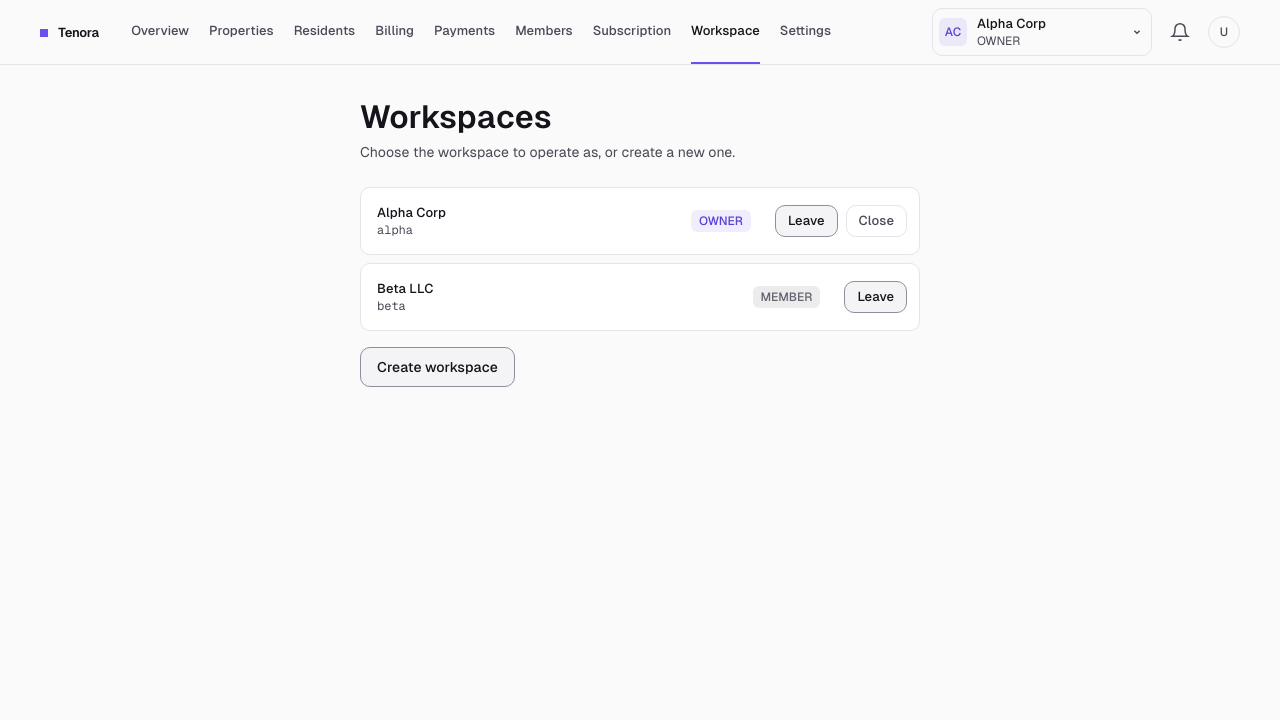
Test case: WorkspacePage › selecting a workspace switches tenant and enters the app
Click the button "Beta LLC beta MEMBER": (405, 288) [361,264,836,330]
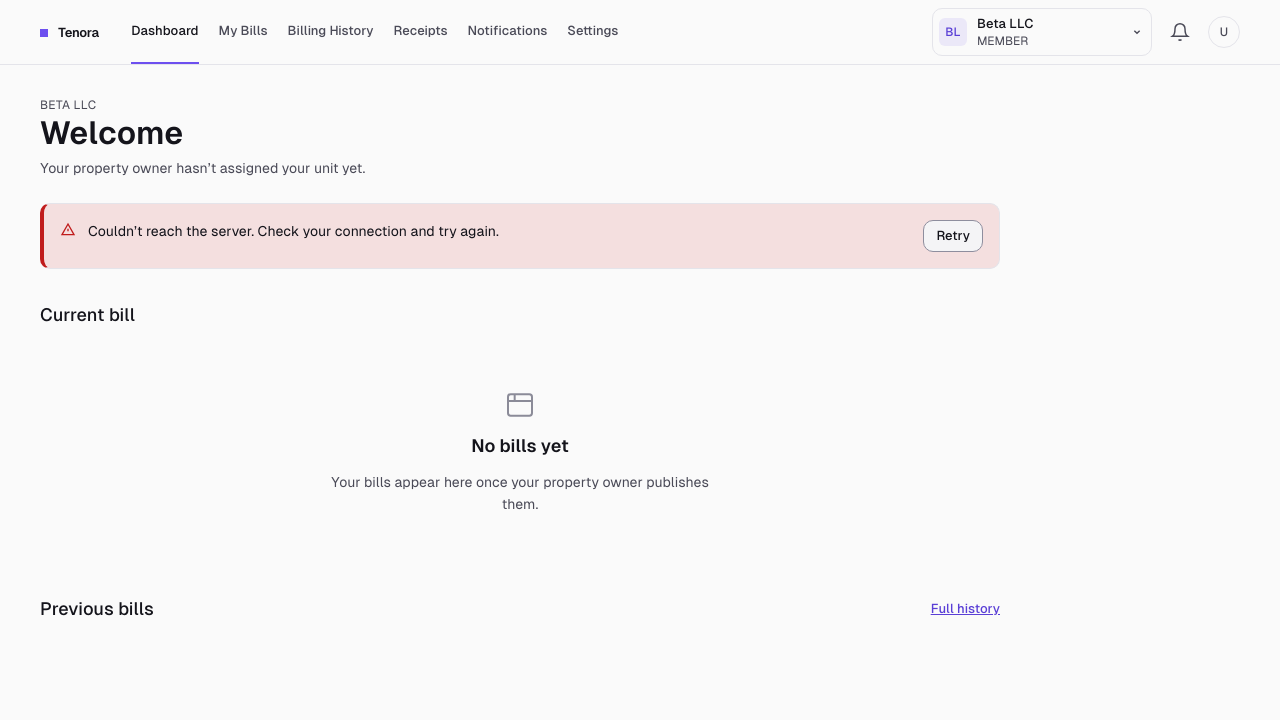
Result: the heading "Welcome" is shown at [40,115,183,151]
